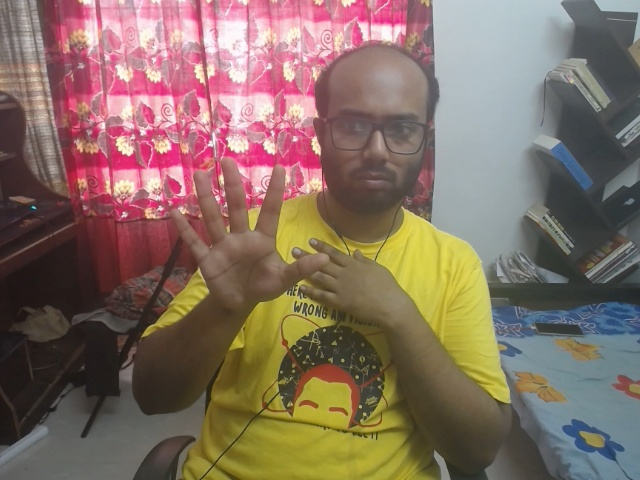five: (149, 143, 332, 324)
